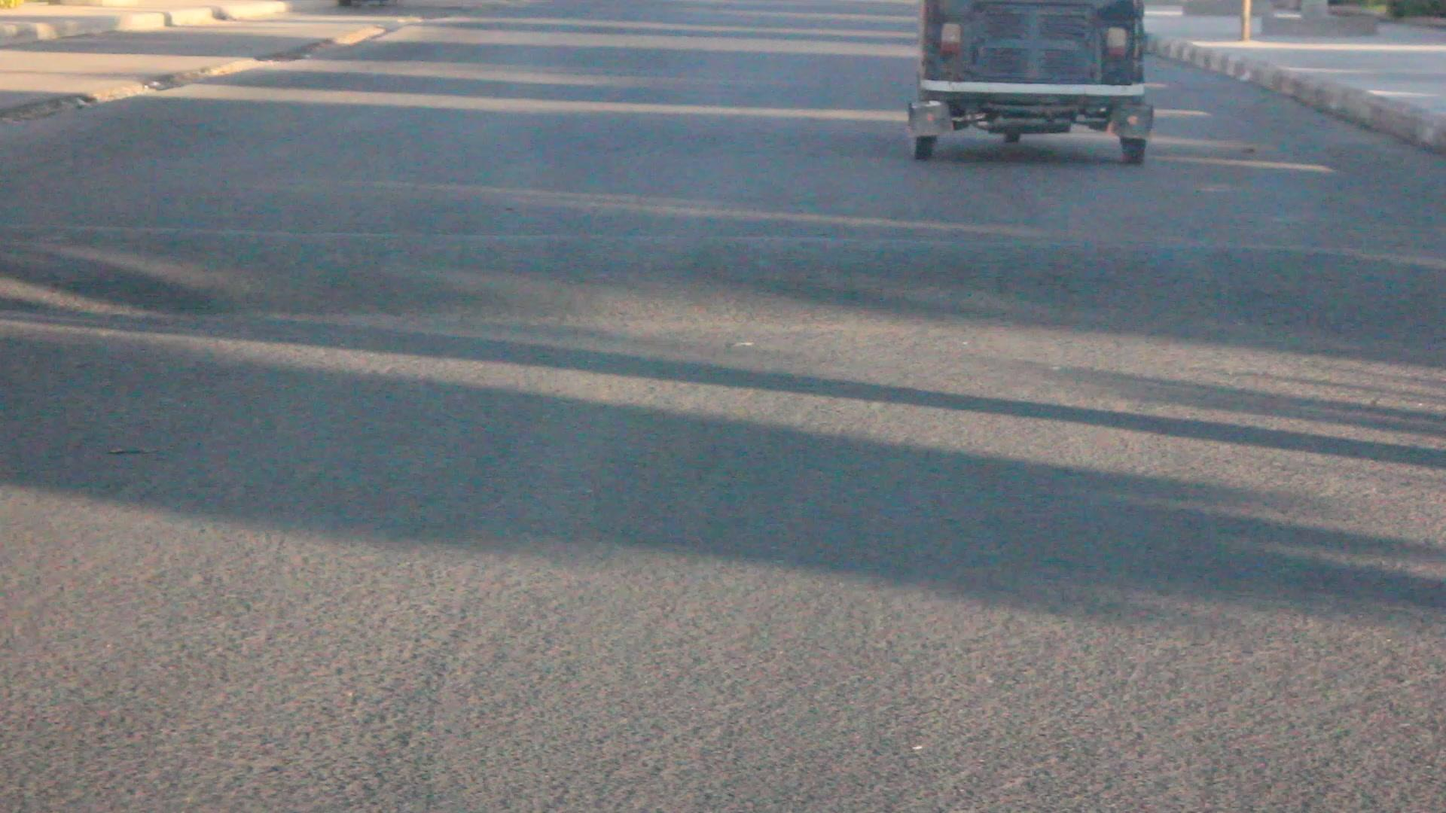Bump: (2, 224, 1446, 356)
